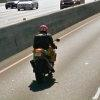Motorcycle: (25, 27, 57, 89)
